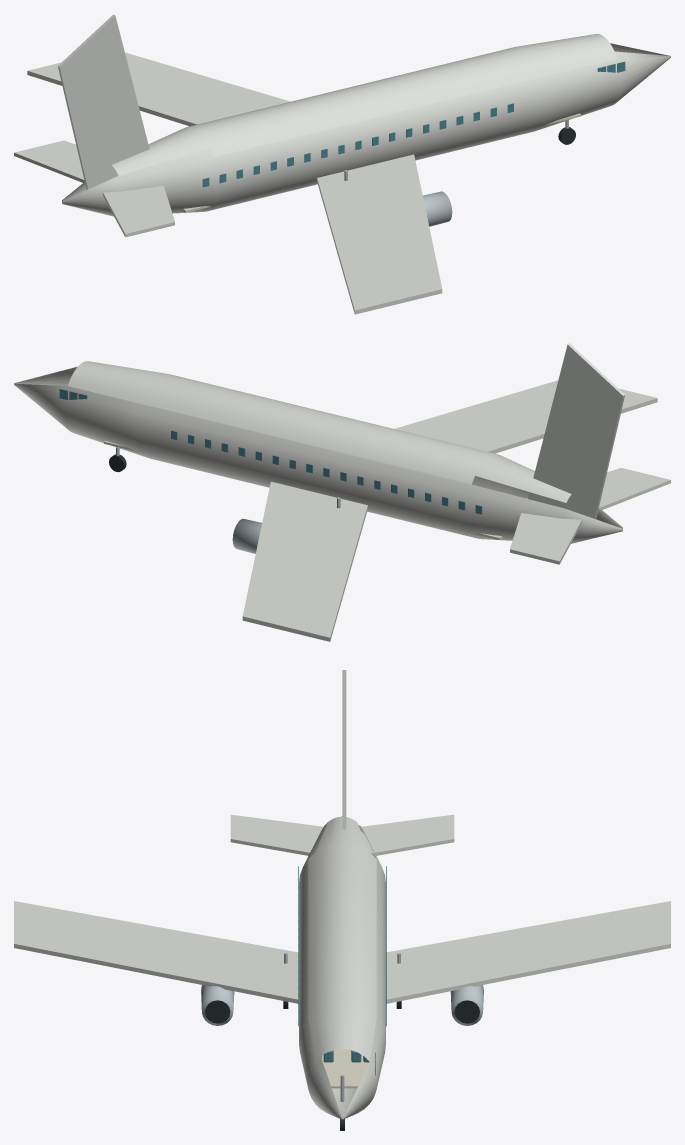
The model's file is airliner_twinjet.glb.
3 renders of one model, top to bottom at view 1: azimuth 30°, elevation 25°; view 2: azimuth 150°, elevation 25°; view 3: azimuth 270°, elevation 25°, orthographic.
Visible parts, largest first — view 1: VisibleGeometry, Roof_Cutaway; view 2: VisibleGeometry, Roof_Cutaway; view 3: VisibleGeometry, Roof_Cutaway.
Boxes of the visible parts, x1=… form: VisibleGeometry: x1=14, y1=14, x2=670, y2=314; Roof_Cutaway: x1=111, y1=34, x2=617, y2=175; VisibleGeometry: x1=14, y1=343, x2=670, y2=641; Roof_Cutaway: x1=68, y1=361, x2=571, y2=502; VisibleGeometry: x1=14, y1=670, x2=670, y2=1130; Roof_Cutaway: x1=308, y1=816, x2=376, y2=1061.
Bounding box in the file's own units: 30.53 × 11.38 × 28.35.
